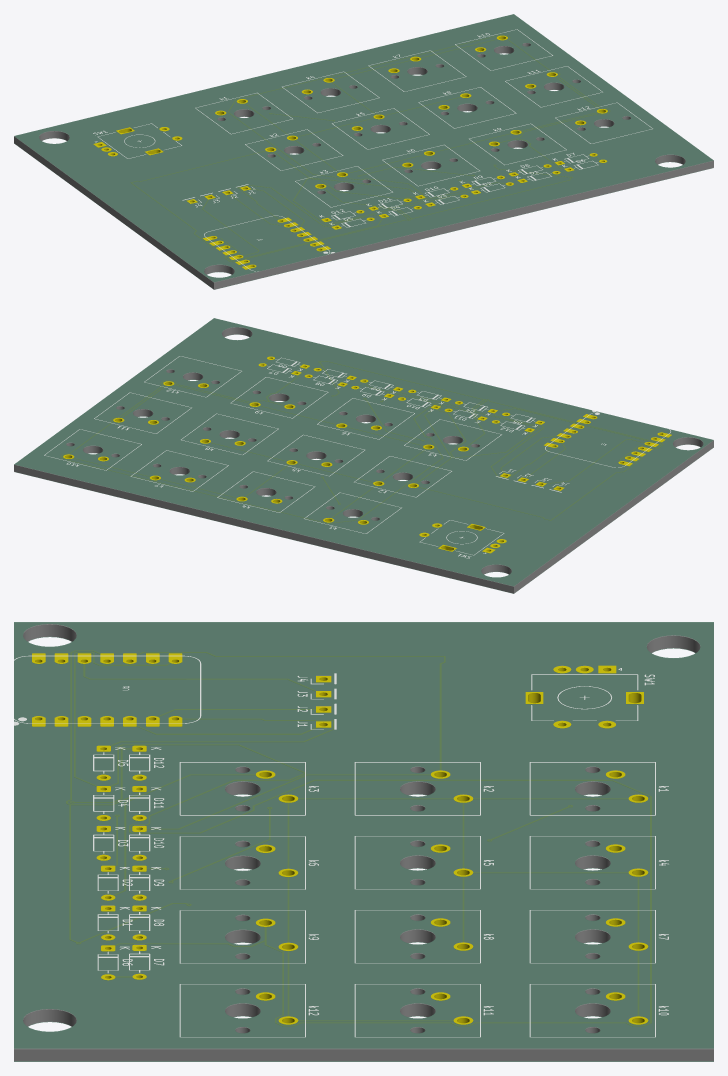
File: Hackpad V2.glb
3 renders of one model, top to bottom at view 1: azimuth 30°, elevation 25°; view 2: azimuth 150°, elevation 25°; view 3: azimuth 270°, elevation 25°, orthographic. The views are drawn at different scales.
Parts seen in each view (by area): view 1: =>[0:1:1:6], =>[0:1:1:8], =>[0:1:1:5], =>[0:1:1:3], =>[0:1:1:7]; view 2: =>[0:1:1:6], =>[0:1:1:8], =>[0:1:1:5], =>[0:1:1:3], =>[0:1:1:7]; view 3: =>[0:1:1:6], =>[0:1:1:8], =>[0:1:1:5], =>[0:1:1:3], =>[0:1:1:2], =>[0:1:1:7].
Part boxes in pixels (x1,y1,x2,y2): =>[0:1:1:6]: (14, 14, 713, 282); =>[0:1:1:8]: (14, 15, 713, 289); =>[0:1:1:5]: (93, 29, 652, 271); =>[0:1:1:3]: (93, 35, 607, 269); =>[0:1:1:7]: (14, 53, 712, 289); =>[0:1:1:6]: (14, 318, 713, 586); =>[0:1:1:8]: (14, 319, 713, 593); =>[0:1:1:5]: (44, 356, 670, 558); =>[0:1:1:3]: (63, 356, 671, 553); =>[0:1:1:7]: (15, 334, 713, 593); =>[0:1:1:6]: (14, 622, 713, 1048); =>[0:1:1:8]: (14, 623, 713, 1061); =>[0:1:1:5]: (14, 655, 668, 1037); =>[0:1:1:3]: (32, 653, 648, 1024); =>[0:1:1:2]: (66, 651, 651, 1025); =>[0:1:1:7]: (14, 636, 713, 1061).
Size of the model in its own units: 0.1125 by 0.00163 by 0.078.
